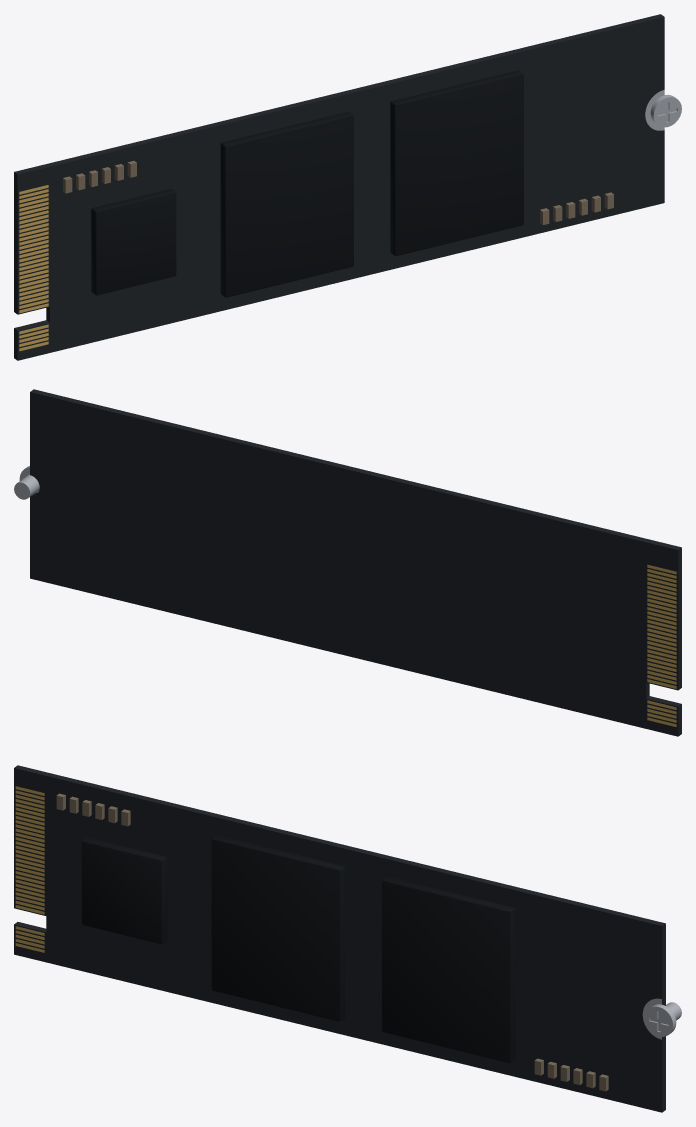
Rendered from g_ssd.glb.
3 views of the same model, one above another, from view 1: azimuth 30°, elevation 25°; view 2: azimuth 150°, elevation 25°; view 3: azimuth 330°, elevation 25° (orthographic).
Visible parts, largest first — view 1: part_ssd, ssd_screw; view 2: part_ssd, ssd_screw; view 3: part_ssd, ssd_screw.
Boxes of the visible parts, x1,y1,x2,y2 form: part_ssd: [14, 14, 664, 360]; ssd_screw: [650, 94, 681, 127]; part_ssd: [30, 389, 681, 736]; ssd_screw: [14, 466, 39, 499]; part_ssd: [14, 765, 665, 1112]; ssd_screw: [644, 1002, 681, 1036].
Bounding box in the file's own units: 0.8175 × 0.2201 × 0.037.
